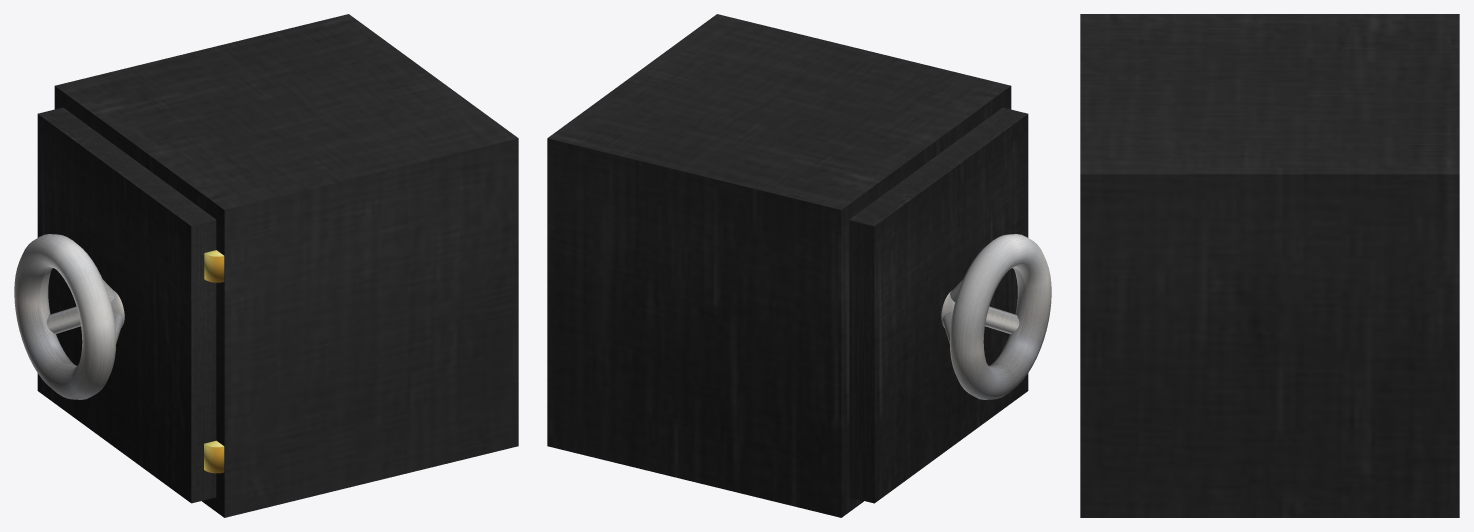
Rendered from safe.glb.
3 renders of one model, left to right at view 1: azimuth 30°, elevation 25°; view 2: azimuth 150°, elevation 25°; view 3: azimuth 270°, elevation 25°, orthographic. The views are drawn at different scales.
Parts seen in each view (by area): view 1: Base, door, Valve, Side Bars, Bottom, Top; view 2: Base, door, Valve, Side Bars; view 3: Base.
Part boxes in pixels (left/top/right/bottom): Base: left=54, top=14, right=518, bottom=517; door: left=37, top=107, right=216, bottom=503; Valve: left=14, top=234, right=116, bottom=399; Side Bars: left=46, top=306, right=122, bottom=343; Bottom: left=204, top=440, right=224, bottom=473; Top: left=204, top=250, right=224, bottom=282; Base: left=547, top=14, right=1011, bottom=517; door: left=849, top=107, right=1028, bottom=503; Valve: left=949, top=234, right=1051, bottom=399; Side Bars: left=943, top=306, right=1019, bottom=343; Base: left=1080, top=14, right=1459, bottom=517.
Bounding box in the file's own units: 2.61 × 2 × 2.
Materials: 7 (6 with a texture image).
